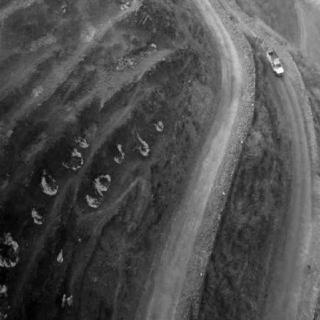Fire: (24, 169, 60, 229), (145, 37, 157, 51)
